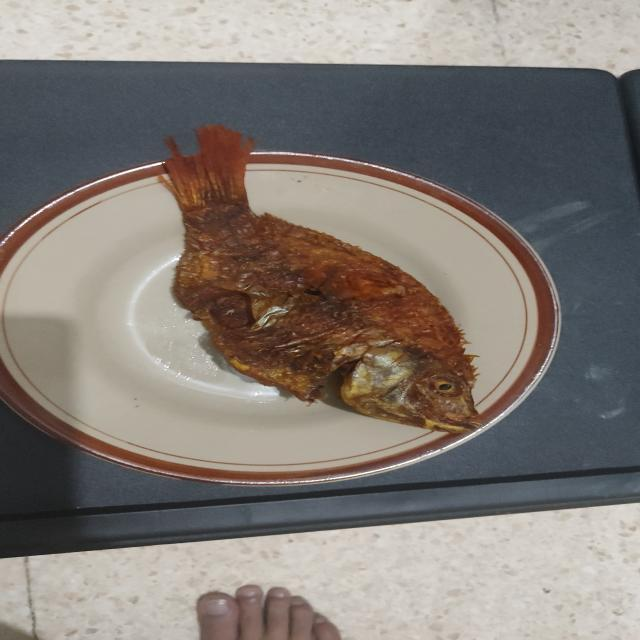ikan_mujair: (163, 125, 484, 434)
